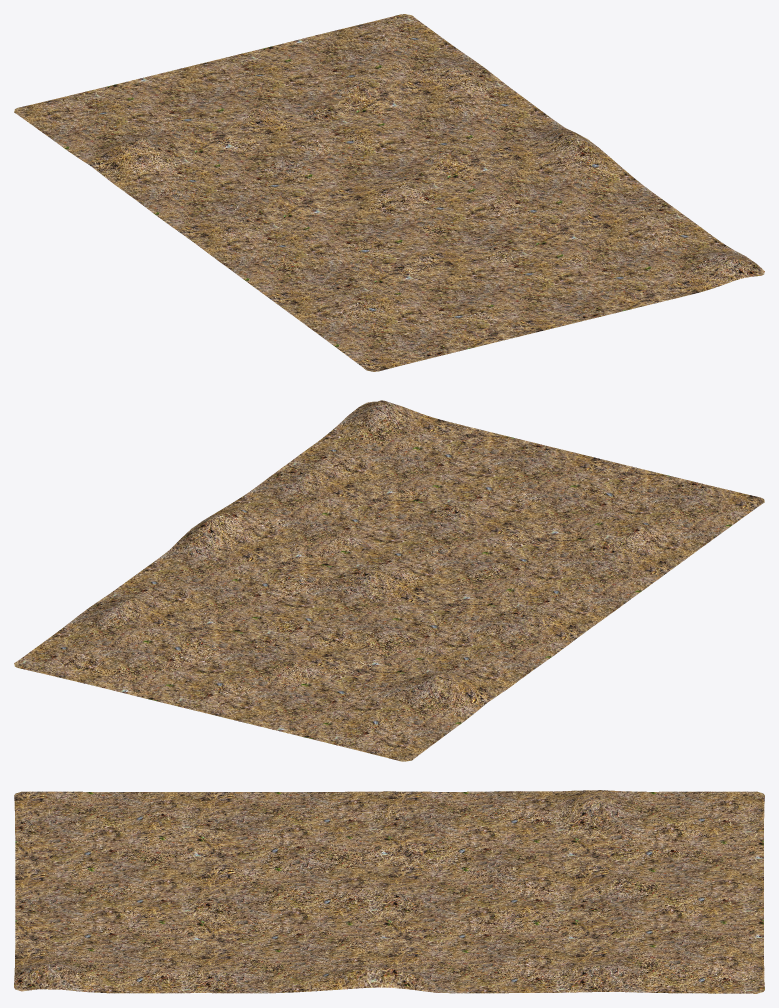
The picture shows the model from 3 angles, top to bottom: view 1: azimuth 30°, elevation 25°; view 2: azimuth 150°, elevation 25°; view 3: azimuth 270°, elevation 25°; orthographic projection. The views are drawn at different scales.
Parts seen in each view (by area): view 1: Plane036_ground2+_0; view 2: Plane036_ground2+_0; view 3: Plane036_ground2+_0.
Part boxes in pixels (<box>): Plane036_ground2+_0: <box>14,14,764,371</box>; Plane036_ground2+_0: <box>14,400,764,761</box>; Plane036_ground2+_0: <box>14,790,764,993</box>.
Size of the model in its own units: 14.07 by 0.5648 by 22.07.
Materials: 1 (1 with a texture image).
